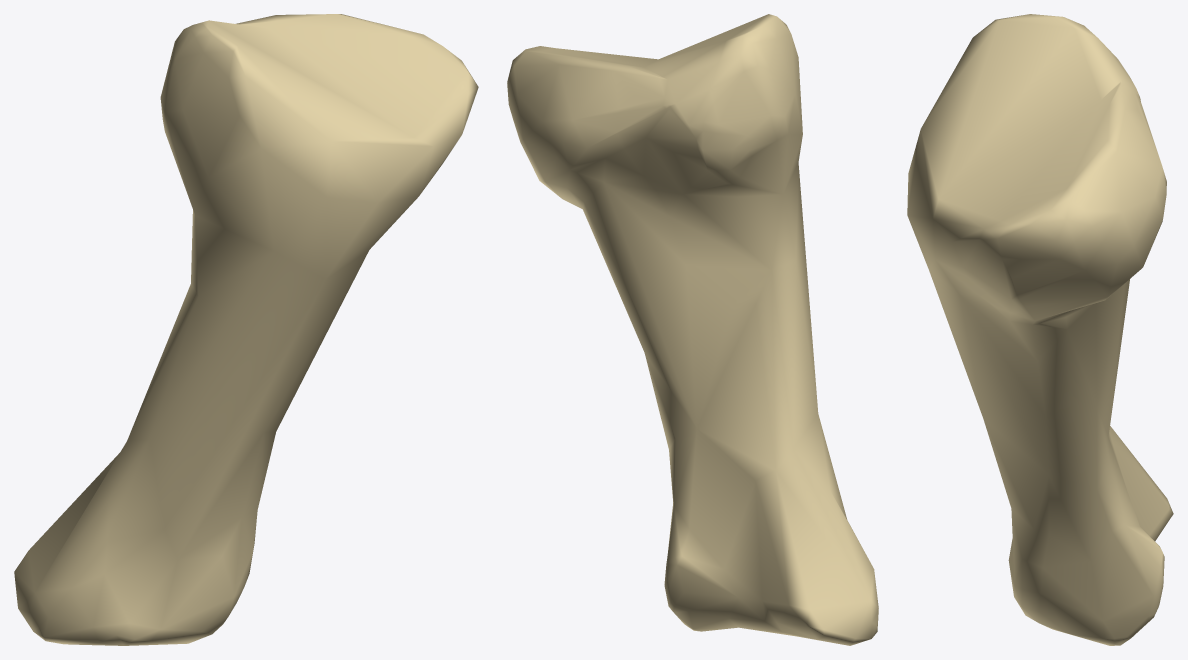
3 renders of one model, left to right at view 1: azimuth 30°, elevation 25°; view 2: azimuth 150°, elevation 25°; view 3: azimuth 270°, elevation 25°, orthographic. The views are drawn at different scales.
Parts seen in each view (by area): view 1: 右侧第五趾近节趾骨; view 2: 右侧第五趾近节趾骨; view 3: 右侧第五趾近节趾骨.
Part boxes in pixels (x1,y1,x2,y2): 右侧第五趾近节趾骨: [14, 14, 478, 645]; 右侧第五趾近节趾骨: [507, 14, 878, 645]; 右侧第五趾近节趾骨: [907, 14, 1173, 645].
Bounding box in the file's own units: 0.027 × 0.0395 × 0.0154.
